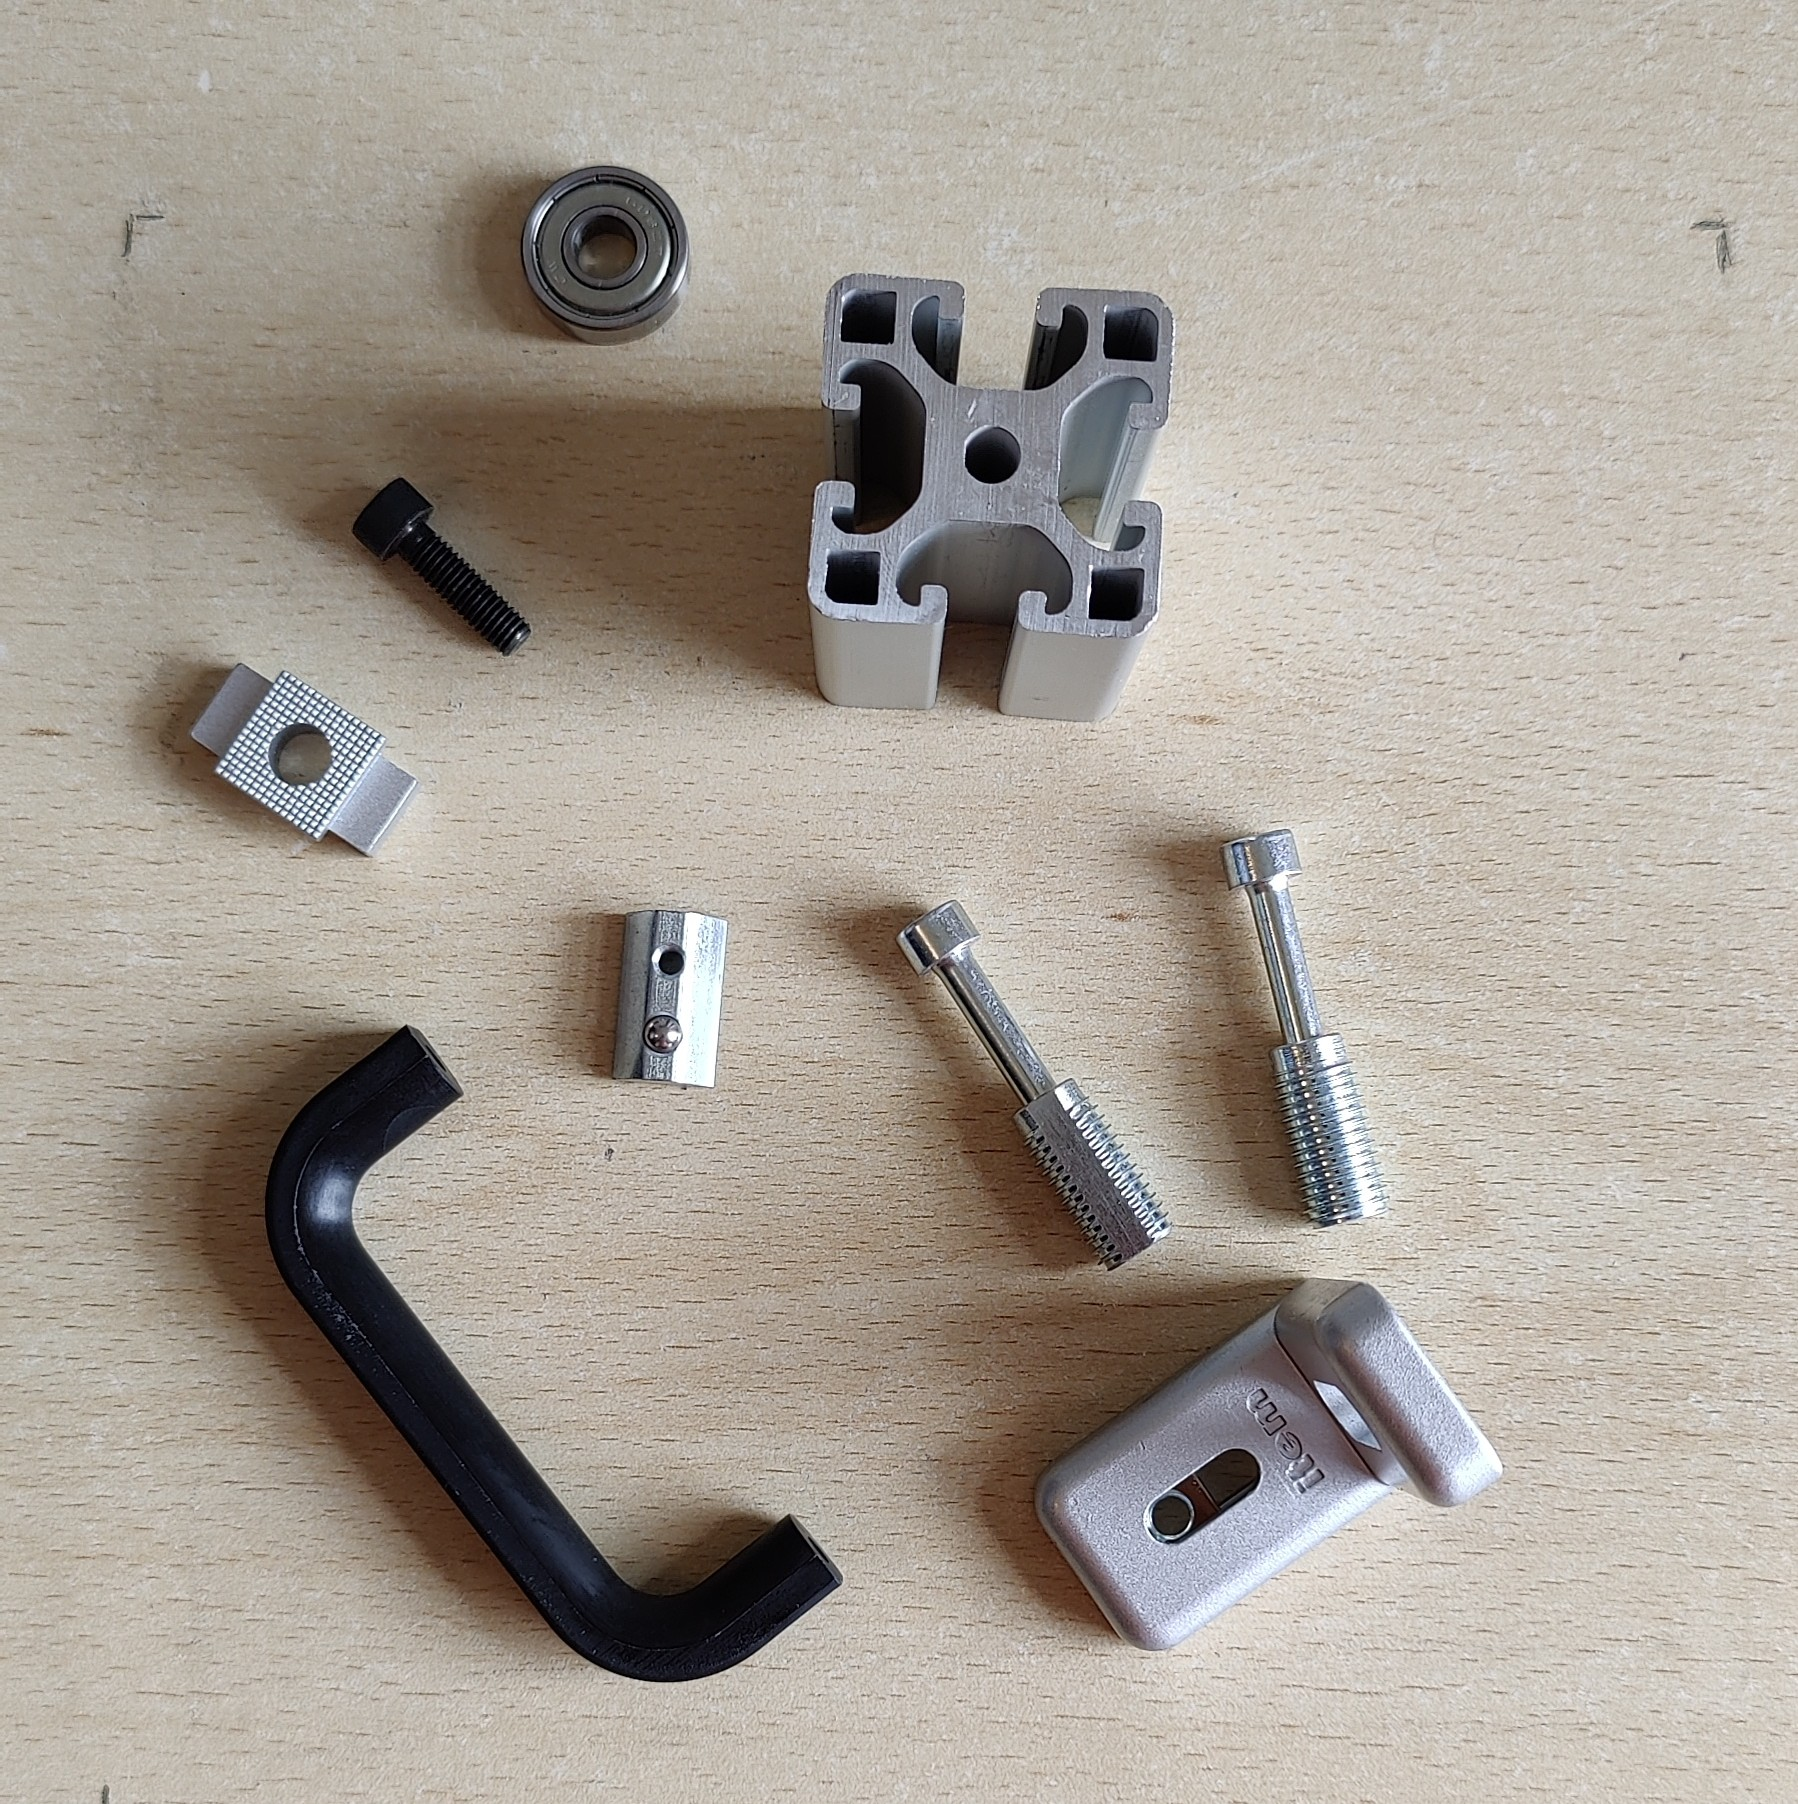Aluminium Extension: (804, 268, 1177, 724)
Ball Bearing: (519, 161, 692, 347)
Multiwinkel: (1029, 1274, 1503, 1653)
Pull Handle: (259, 1021, 845, 1684)
Shoulder Socket Head Cap Screw: (896, 899, 1177, 1272), (1218, 830, 1393, 1231)
Socket Head Cap Screw: (347, 474, 532, 660)
T Nut Square: (188, 662, 425, 859)
T Spring Nut: (609, 907, 729, 1090)
